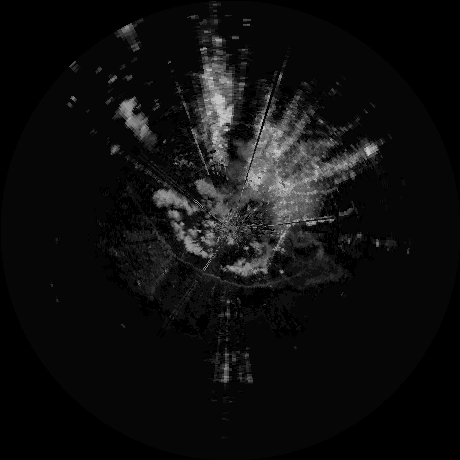frontgust: (146, 218, 288, 288)
